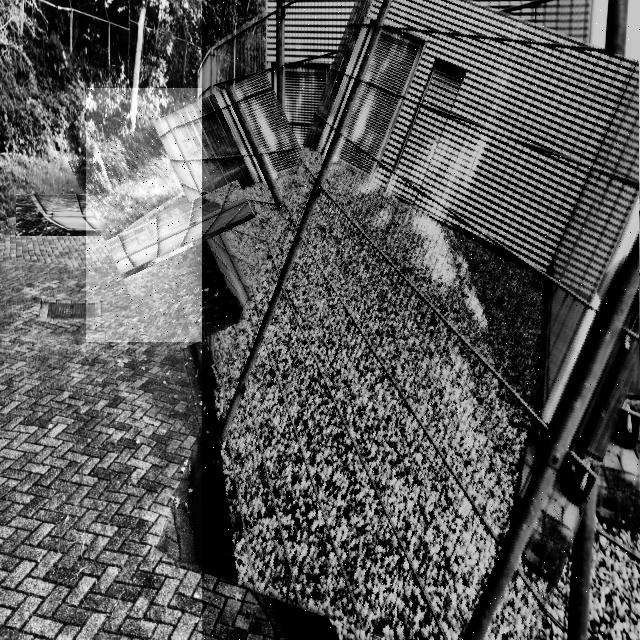fences: (202, 0, 640, 640), (86, 88, 339, 342)
